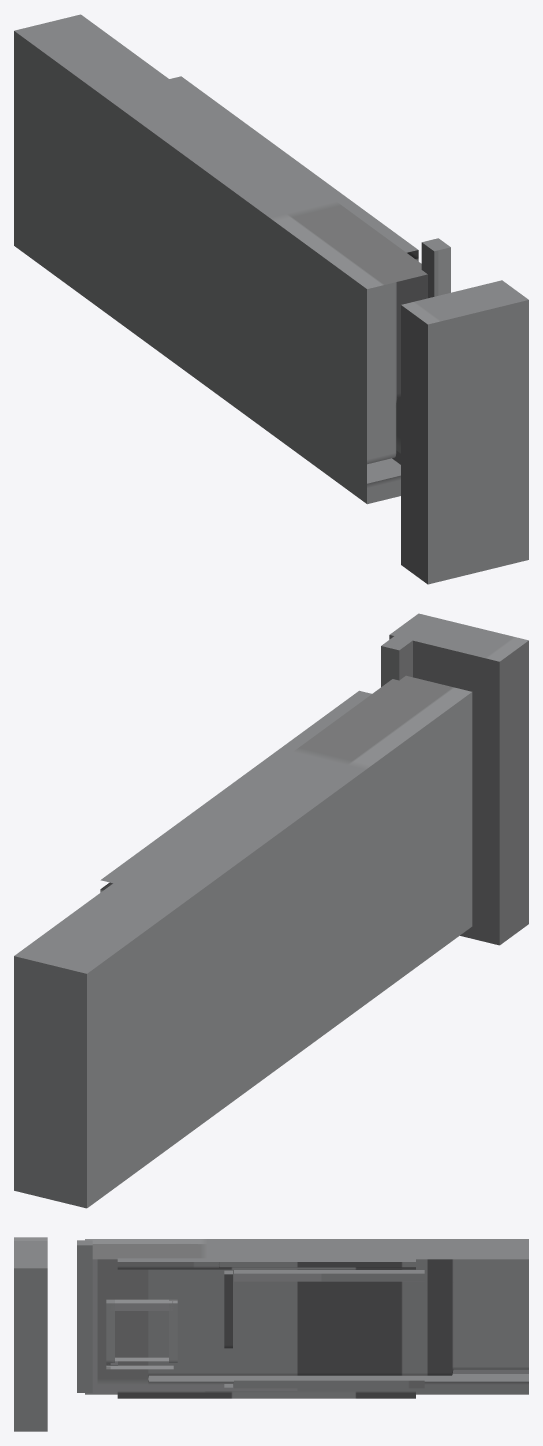
The picture shows the model from 3 angles, top to bottom: view 1: azimuth 30°, elevation 25°; view 2: azimuth 150°, elevation 25°; view 3: azimuth 270°, elevation 25°; orthographic projection. The views are drawn at different scales.
Bounding box in the file's own units: 0.1877 × 0.4807 × 1.26.
